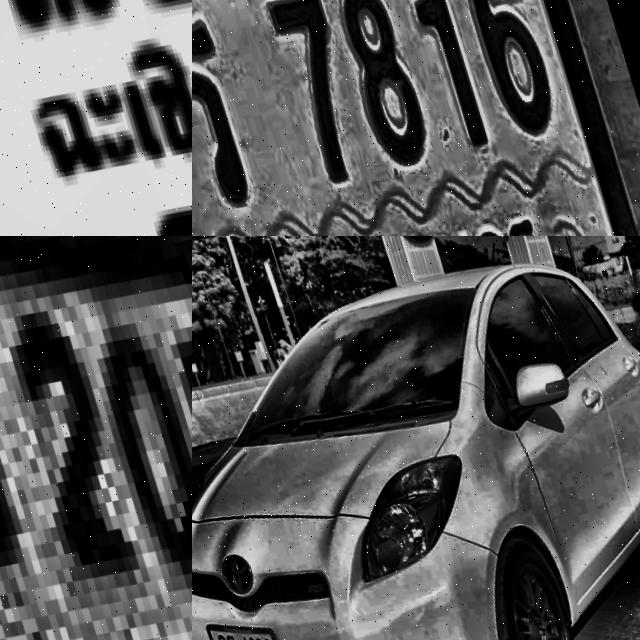license-plate: (192, 0, 640, 236), (0, 236, 192, 640), (0, 0, 192, 236), (192, 598, 297, 640)
